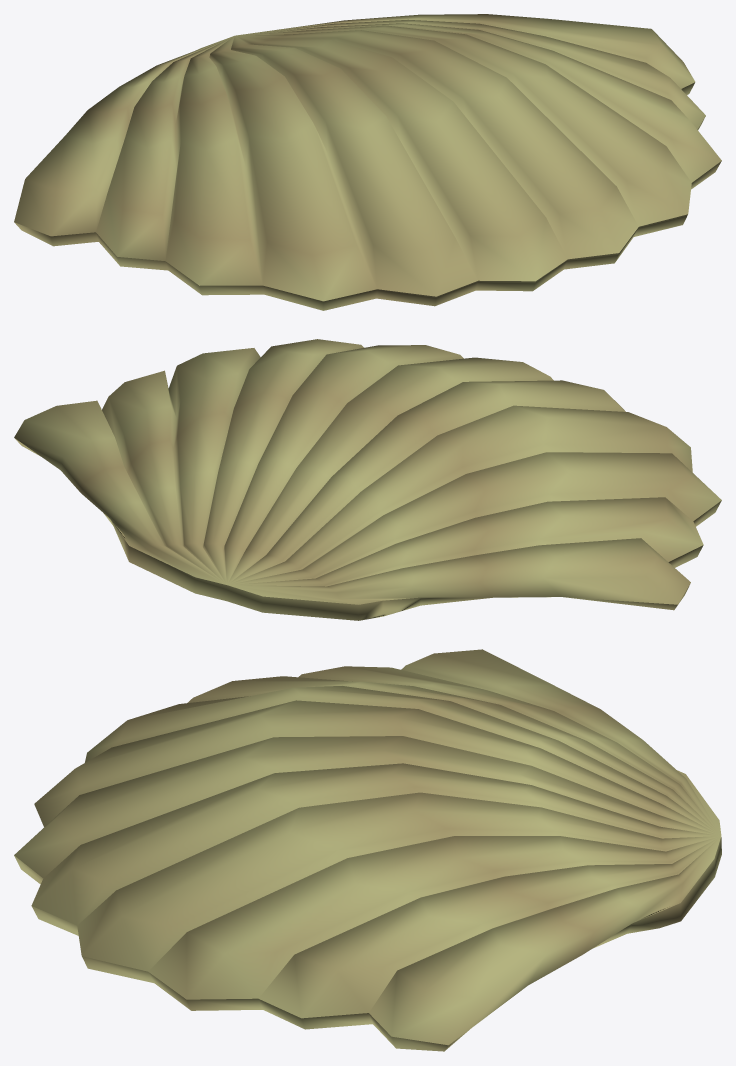
File: seashell.glb
3 renders of one model, top to bottom at view 1: azimuth 30°, elevation 25°; view 2: azimuth 150°, elevation 25°; view 3: azimuth 270°, elevation 25°, orthographic. The views are drawn at different scales.
Parts seen in each view (by area): view 1: shell; view 2: shell; view 3: shell.
Part boxes in pixels (x1,y1,x2,y2): shell: [14, 14, 721, 310]; shell: [14, 339, 721, 620]; shell: [14, 649, 721, 1051].
Bounding box in the file's own units: 0.8025 × 0.1274 × 0.6416.
